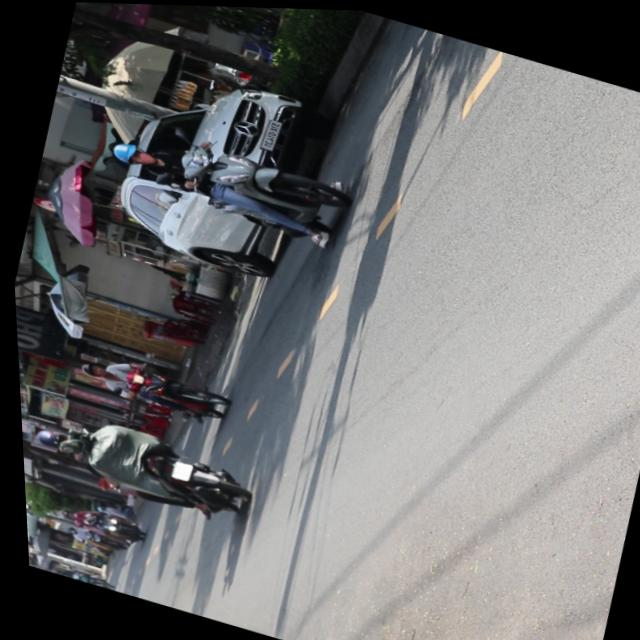helmet: (105, 136, 152, 168), (26, 423, 62, 450), (72, 358, 102, 379)
licenseplate: (96, 114, 352, 247), (16, 398, 253, 528), (66, 344, 229, 429)
nohelmet: (163, 459, 186, 480)
